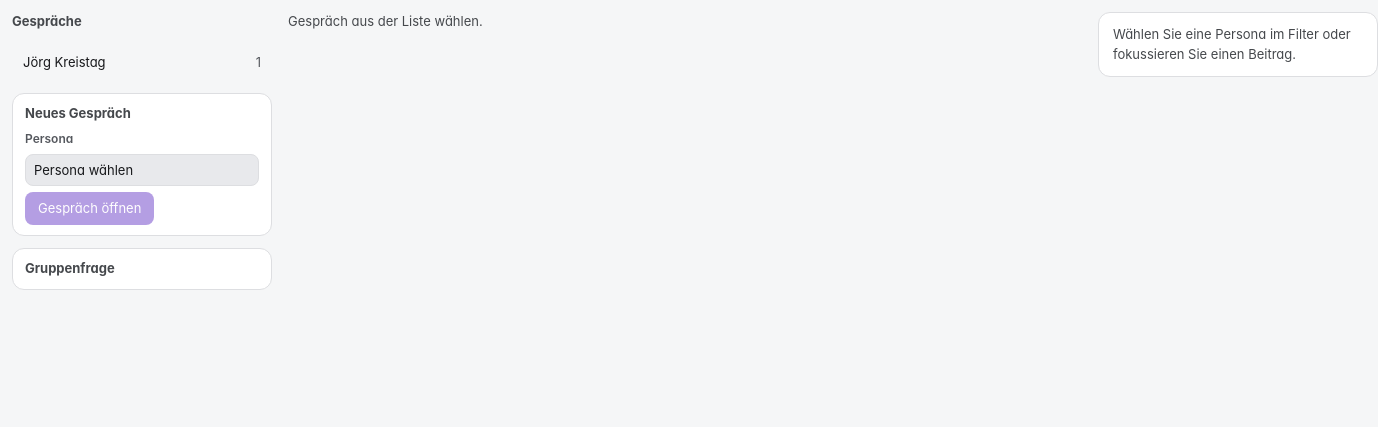
RunInterviewsView › listet Gespräche aus dem Verlauf; die Auswahl ändert die Adresse und zeigt den Verlauf
The image size is (1378, 427).
Click the link with test id "conversation-item" at (64, 62), box [23,54,261,70]
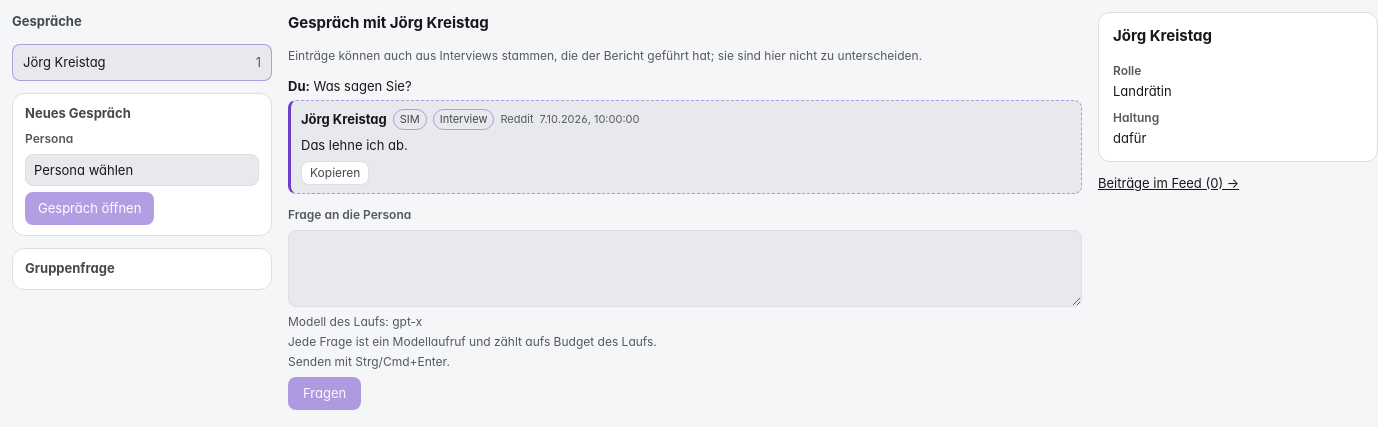
expect the heading with test id "pane-title" shows "Jörg Kreistag": met, box [288,13,489,32]
expect the list with test id "turns" shows "Was sagen Sie?": met, box [310,78,412,94]
expect the element with test id "turn-answer" shows "Das lehne ich ab.": met, box [301,136,408,152]
